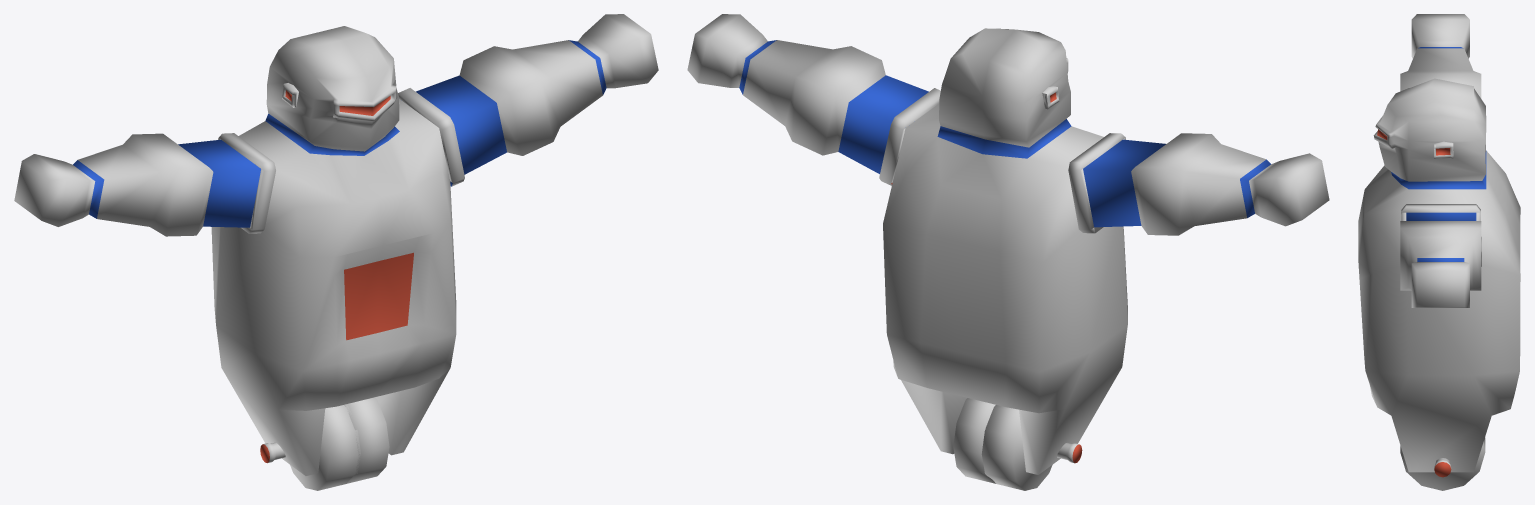
The model's file is robot_guard.fbx.
3 renders of one model, left to right at view 1: azimuth 30°, elevation 25°; view 2: azimuth 150°, elevation 25°; view 3: azimuth 270°, elevation 25°, orthographic. The views are drawn at different scales.
Visible parts, largest first — view 1: Cube; view 2: Cube; view 3: Cube.
Part boxes in pixels (<box>): Cube: <box>14,14,658,490</box>; Cube: <box>687,14,1329,490</box>; Cube: <box>1358,14,1520,490</box>.
Size of the model in its own units: 6.37 by 4.4 by 1.66.
